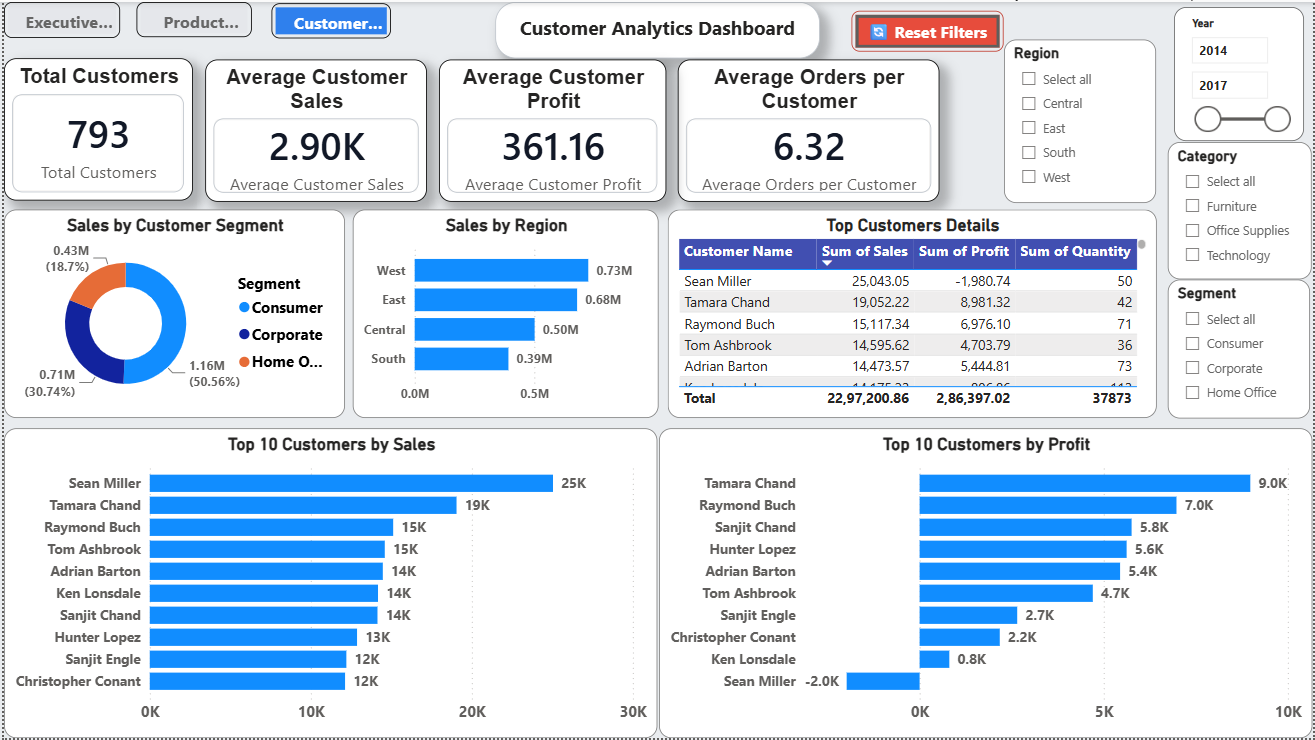

This screenshot's page, from the dashboard's own definition file:
{"tool":"powerbi","page":{"name":"Customer Analytics","canvas":[1280,720],"ordinal":2},"visuals":[{"type":"textbox","box":[480.6,0,317.9,55],"z":0},{"type":"cardVisual","title":"Total Customers","fields":{"Data":["Table.Total Customers"]},"box":[0,55,184.6,139.4],"z":1000},{"type":"cardVisual","title":"Average Orders per Customer","fields":{"Data":["Date_Table.Average Orders per Customer"]},"box":[659.5,55.7,256,139.1],"z":2000},{"type":"cardVisual","title":"Average Customer Sales","fields":{"Data":["Date_Table.Average Customer Sales"]},"box":[196.4,55.7,217,139.1],"z":3000},{"type":"cardVisual","title":"Average Customer Profit","fields":{"Data":["Date_Table.Average Customer Profit"]},"box":[425.1,55.7,222.6,139.1],"z":4000},{"type":"clusteredBarChart","title":"Top 10 Customers by Sales","fields":{"Category":["Retail_Cleaned.Customer Name"],"Y":["Sum(Retail_Cleaned.Sales)"]},"box":[0,417,639.5,303.3],"z":5000},{"type":"clusteredBarChart","title":"Top 10 Customers by Profit","fields":{"Category":["Retail_Cleaned.Customer Name"],"Y":["Sum(Retail_Cleaned.Profit)"]},"box":[640.8,417,639.5,303.3],"z":6000},{"type":"donutChart","title":"Sales by Customer Segment","fields":{"Category":["Retail_Cleaned.Segment"],"Y":["Sum(Retail_Cleaned.Sales)"]},"box":[0,203,333.8,204.2],"z":7000},{"type":"clusteredBarChart","title":"Sales by Region","fields":{"Category":["Retail_Cleaned.Region"],"Y":["Sum(Retail_Cleaned.Sales)"]},"box":[341.2,203,299.6,204.2],"z":8000},{"type":"tableEx","title":"Top Customers Details","fields":{"Values":["Retail_Cleaned.Customer Name","Sum(Retail_Cleaned.Sales)","Sum(Retail_Cleaned.Profit)","Sum(Retail_Cleaned.Quantity)"]},"box":[649.3,203,478.1,204.2],"z":9000},{"type":"slicer","fields":{"Values":["Retail_Cleaned.Year"]},"box":[1144.6,4.9,127.2,130.8],"z":10000},{"type":"slicer","title":"Region","fields":{"Values":["Retail_Cleaned.Region"]},"box":[978.1,36.2,148.9,160],"z":11000},{"type":"slicer","title":"Category","fields":{"Values":["Retail_Cleaned.Category"]},"box":[1138.5,136.3,140.6,134.5],"z":12000},{"type":"slicer","title":"Segment","fields":{"Values":["Retail_Cleaned.Segment"]},"box":[1138.5,271.5,139.4,135.7],"z":13000},{"type":"actionButton","box":[0,0,113.7,35.5],"z":14000},{"type":"actionButton","box":[129.4,0,112.7,34.8],"z":15000},{"type":"actionButton","box":[261.6,1.4,116.9,34.8],"z":16000},{"type":"actionButton","box":[829.2,8.3,148.9,40.3],"z":17000}]}

Visuals, with their boxes in screenshot pixels (x1, y1, x2, y2), scaled from the page's 1280x720 canvas onto the 1315x740 screenshot:
textbox: [494, 0, 820, 57]
"Total Customers" cardVisual: [0, 57, 190, 200]
"Average Orders per Customer" cardVisual: [678, 57, 941, 200]
"Average Customer Sales" cardVisual: [202, 57, 425, 200]
"Average Customer Profit" cardVisual: [437, 57, 665, 200]
"Top 10 Customers by Sales" clusteredBarChart: [0, 429, 657, 739]
"Top 10 Customers by Profit" clusteredBarChart: [658, 429, 1314, 739]
"Sales by Customer Segment" donutChart: [0, 209, 343, 419]
"Sales by Region" clusteredBarChart: [351, 209, 658, 419]
"Top Customers Details" tableEx: [667, 209, 1158, 419]
slicer - Retail_Cleaned.Year: [1176, 5, 1307, 139]
"Region" slicer: [1005, 37, 1158, 202]
"Category" slicer: [1170, 140, 1314, 278]
"Segment" slicer: [1170, 279, 1313, 419]
actionButton: [0, 0, 117, 36]
actionButton: [133, 0, 249, 36]
actionButton: [269, 1, 389, 37]
actionButton: [852, 9, 1005, 50]
